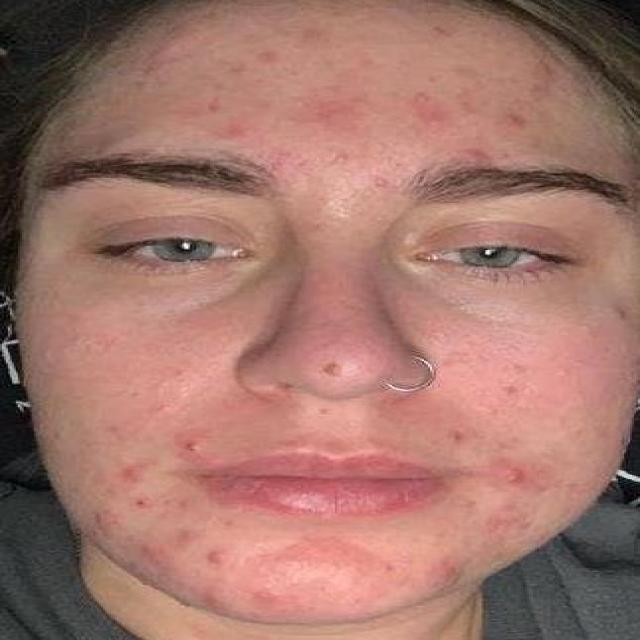blackheads: (487, 454, 549, 491), (497, 102, 531, 128), (119, 460, 152, 486), (291, 17, 319, 47), (173, 525, 200, 550), (321, 362, 353, 380), (443, 427, 468, 449), (176, 433, 202, 454), (614, 293, 632, 322), (200, 552, 226, 568)
